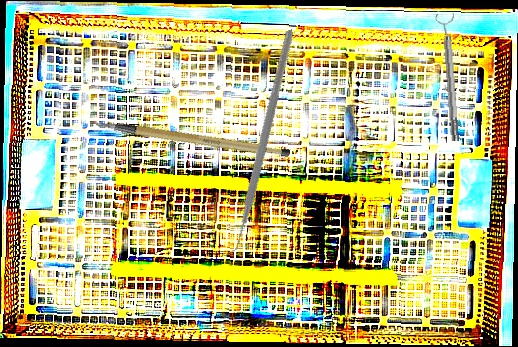Chopper: (159, 29, 352, 258)
Fixation Ring: (435, 12, 465, 143)
Scalpel Handle: (95, 90, 292, 184)
